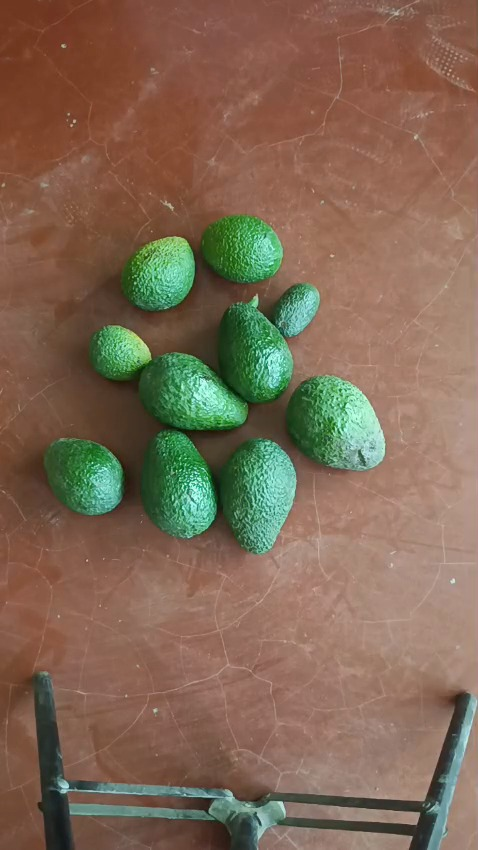Primera: (285, 375, 385, 470), (137, 352, 249, 431), (219, 438, 297, 551), (140, 429, 218, 538), (217, 296, 293, 403)
Segunda: (44, 437, 126, 515), (120, 236, 196, 311), (201, 215, 284, 283)
Tercera: (89, 325, 152, 381), (268, 283, 319, 338)
